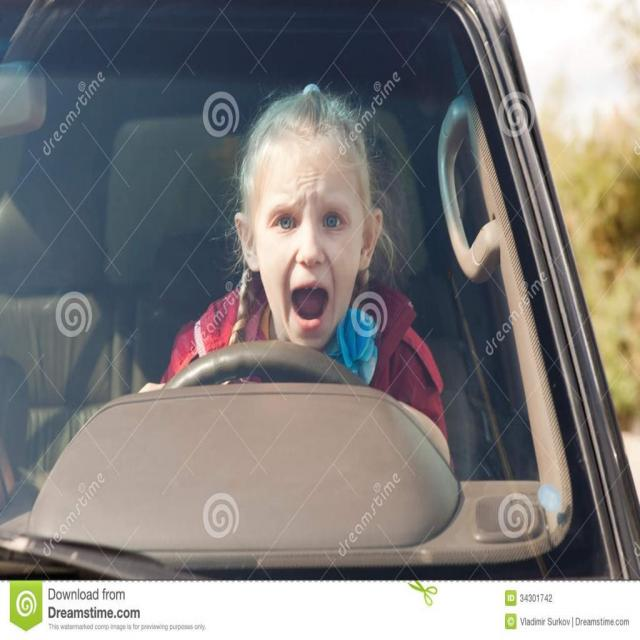nomask: (254, 144, 360, 345)
